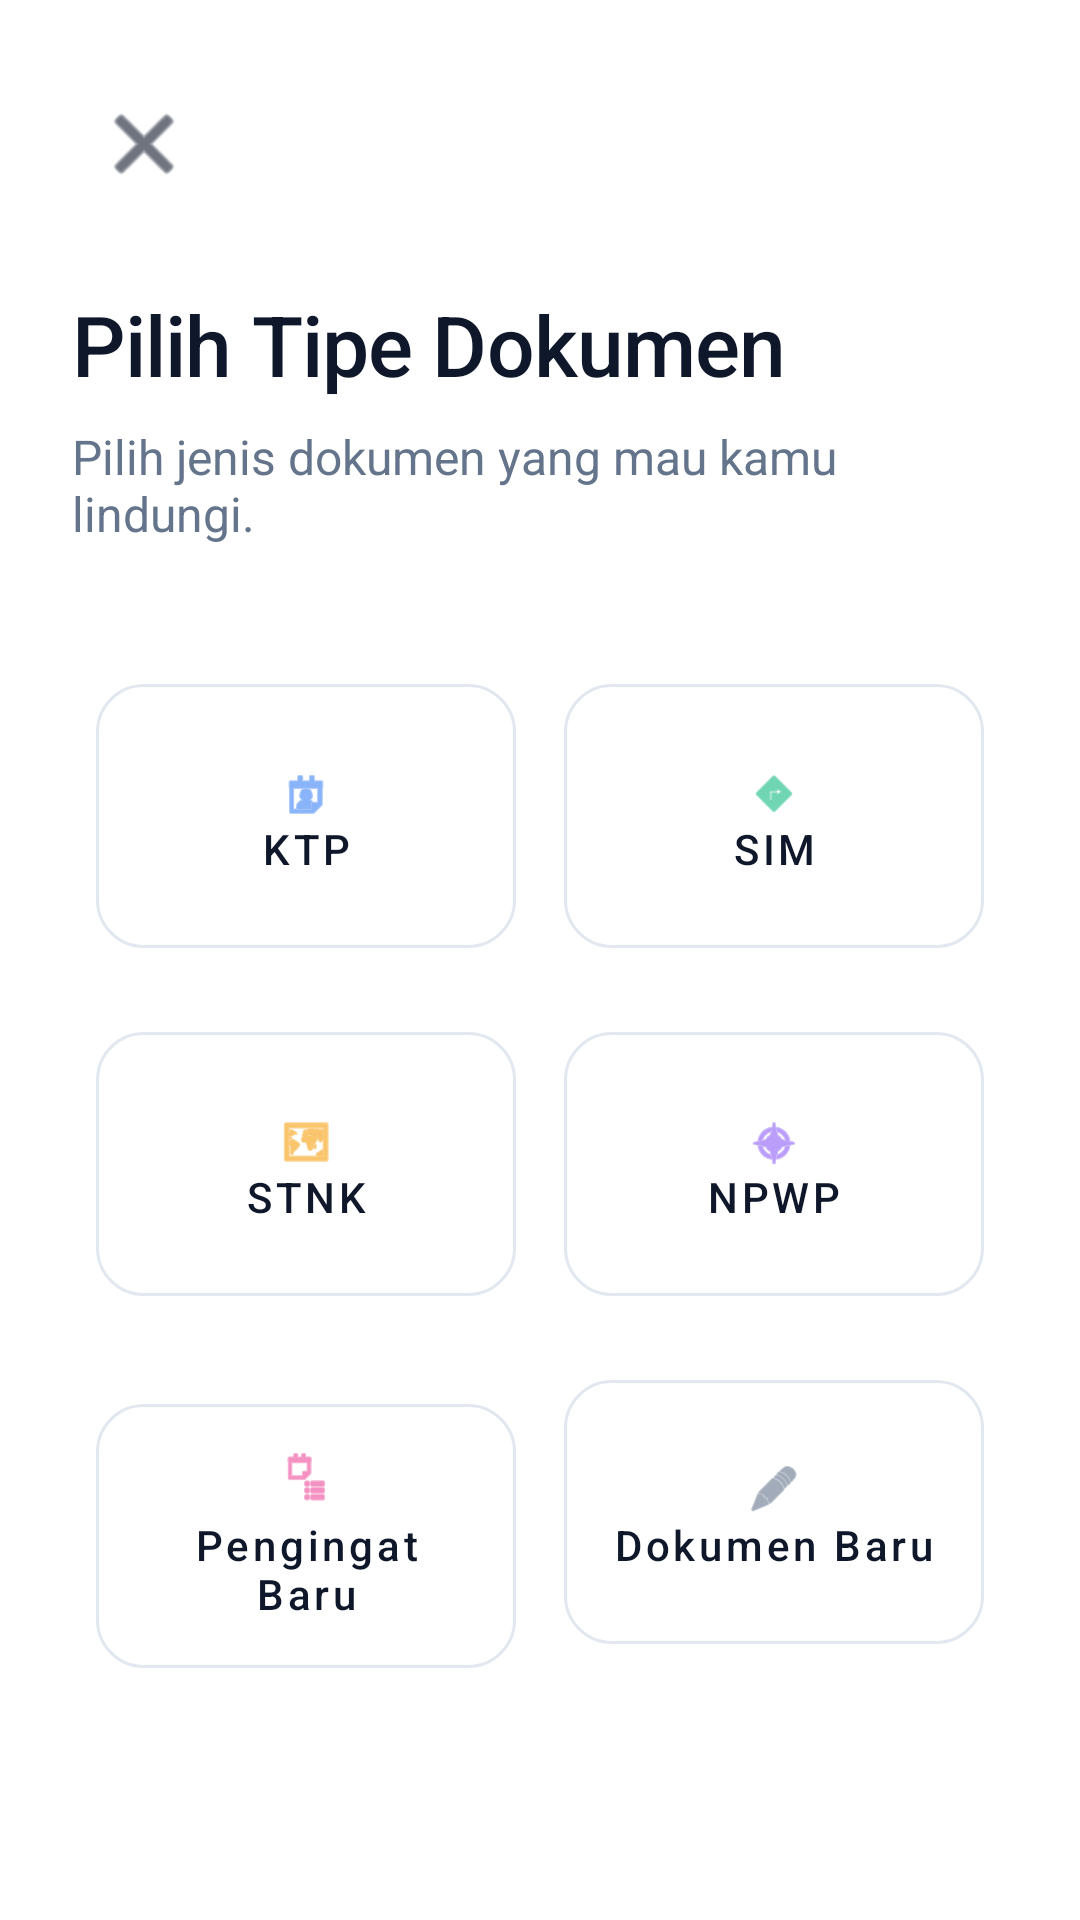

Icon click points for this 1080×1920 phone screenshot, format (x,y):
close clear cancel: (144,144)
